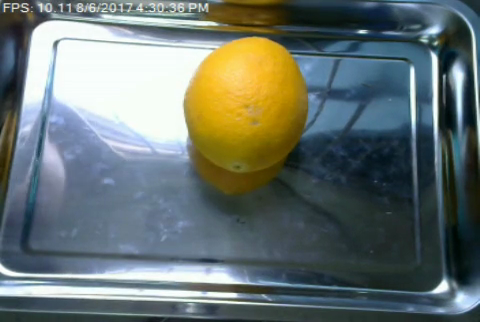Orange: (184, 35, 309, 172)
